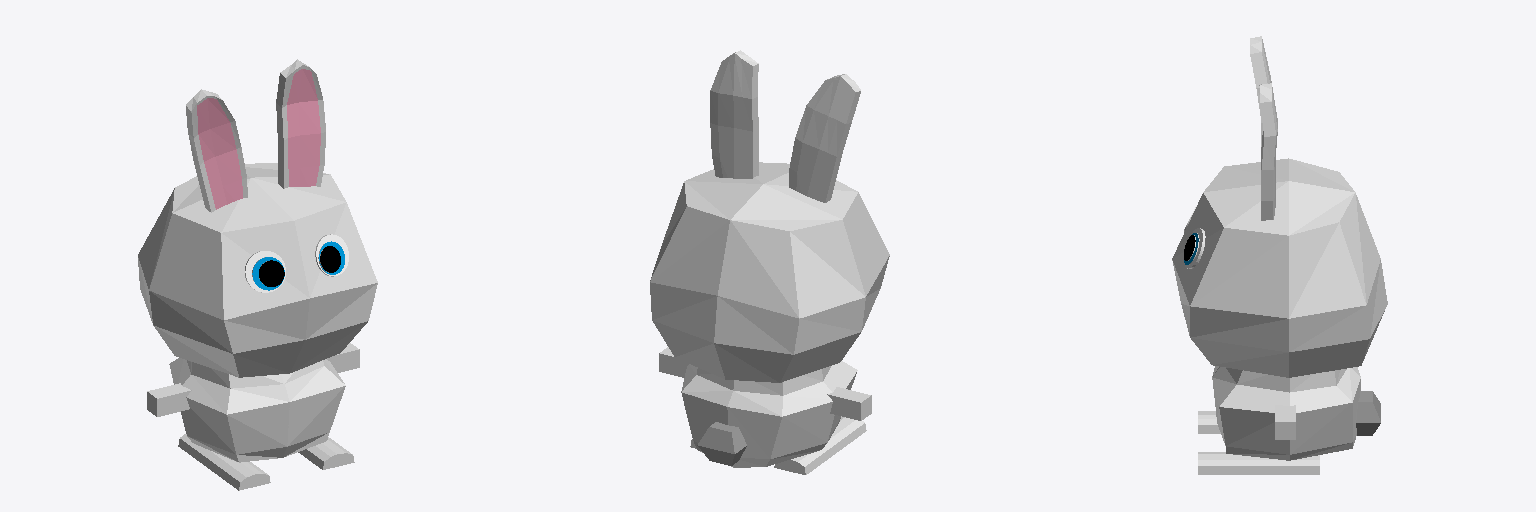
3 views of the same model, side by side, from view 1: azimuth 30°, elevation 25°; view 2: azimuth 150°, elevation 25°; view 3: azimuth 270°, elevation 25° (orthographic).
Parts seen in each view (by area): view 1: Cube; view 2: Cube; view 3: Cube.
Part boxes in pixels (left/top/right/bottom): Cube: left=138, top=59, right=377, bottom=490; Cube: left=650, top=50, right=889, bottom=474; Cube: left=1172, top=36, right=1387, bottom=474.
Bounding box in the file's own units: 1.83 × 3.25 × 1.66.
Materials: 2 (1 with a texture image).